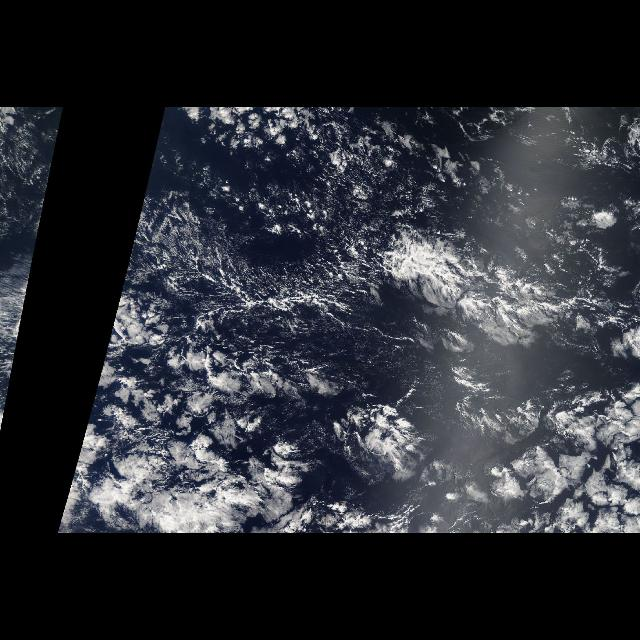Fish: (124, 212, 390, 364)
